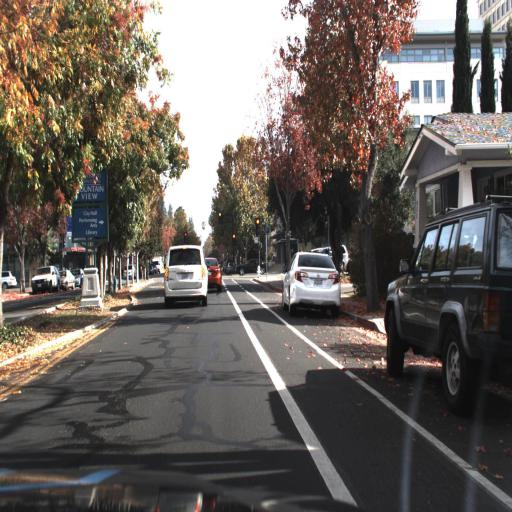car: (378, 187, 511, 415), (279, 246, 346, 315), (162, 242, 210, 308), (26, 262, 62, 297), (206, 253, 225, 296), (234, 258, 270, 276), (60, 264, 77, 294), (54, 268, 76, 290), (0, 269, 19, 291)
trafficLight-Red: (254, 212, 262, 241), (231, 228, 238, 253), (215, 207, 223, 228), (255, 216, 260, 235), (231, 231, 236, 247), (217, 211, 222, 226)
trafficLight-RedLeft: (182, 229, 191, 243), (182, 228, 189, 244)
